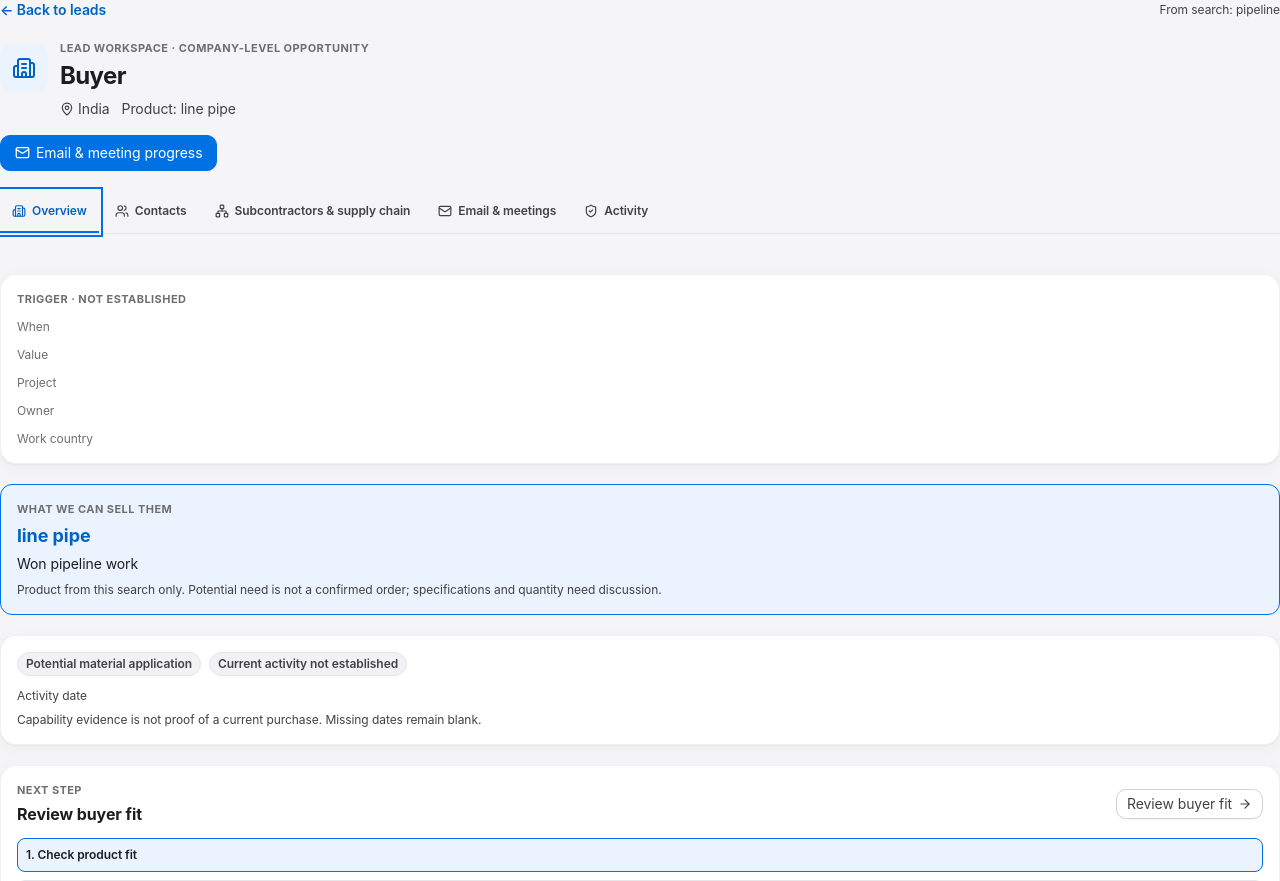
Scenario: guided workspace › keeps the sidebar across tabs and supports keyboard tab navigation
Press ArrowRight in the tab "Overview", box [0,190,99,232]
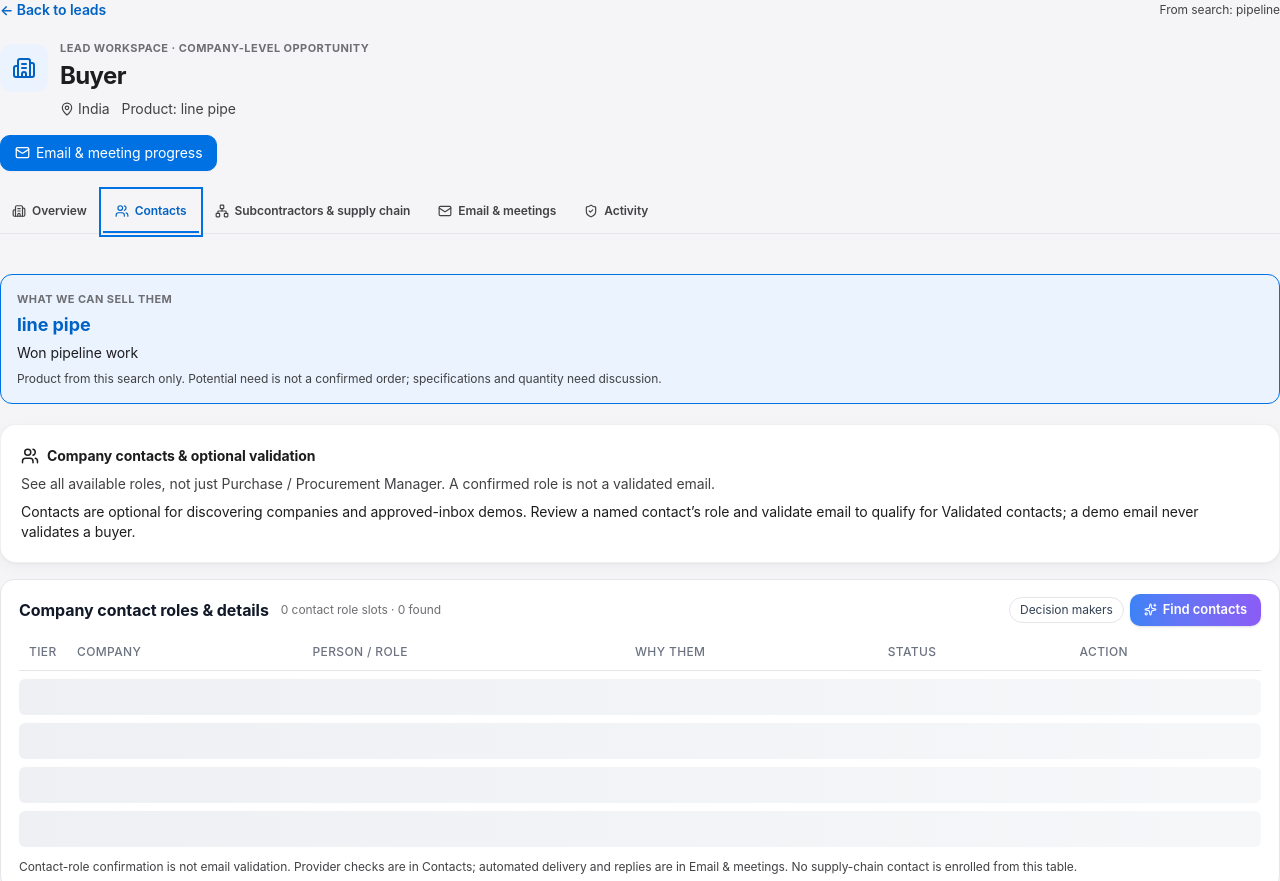
Result: the tab "Contacts" is selected at [103,190,198,232]
Click the button "Email & meeting progress" at (109, 152), box [0,134,218,170]
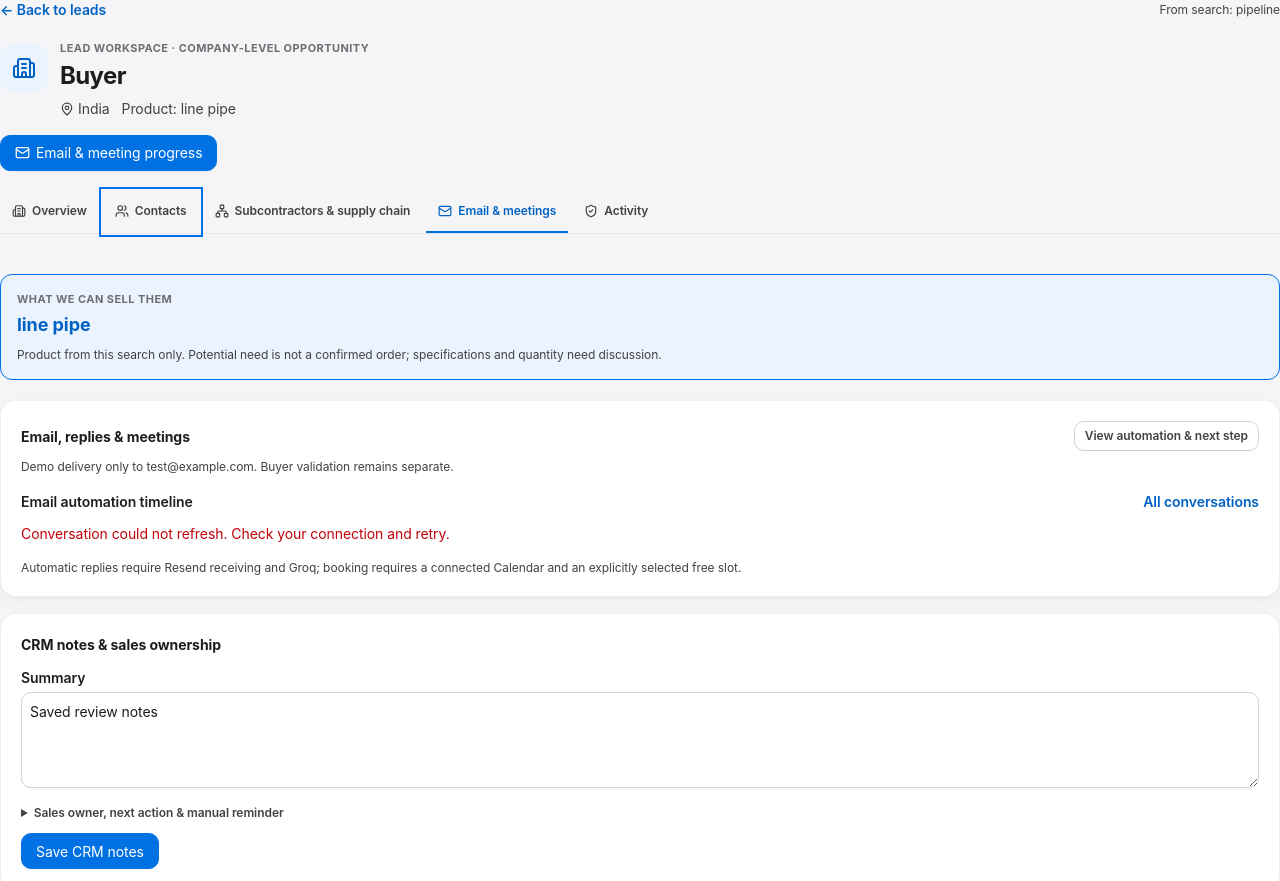
Result: the heading "Email automation timeline" is shown at [21,491,193,512]
